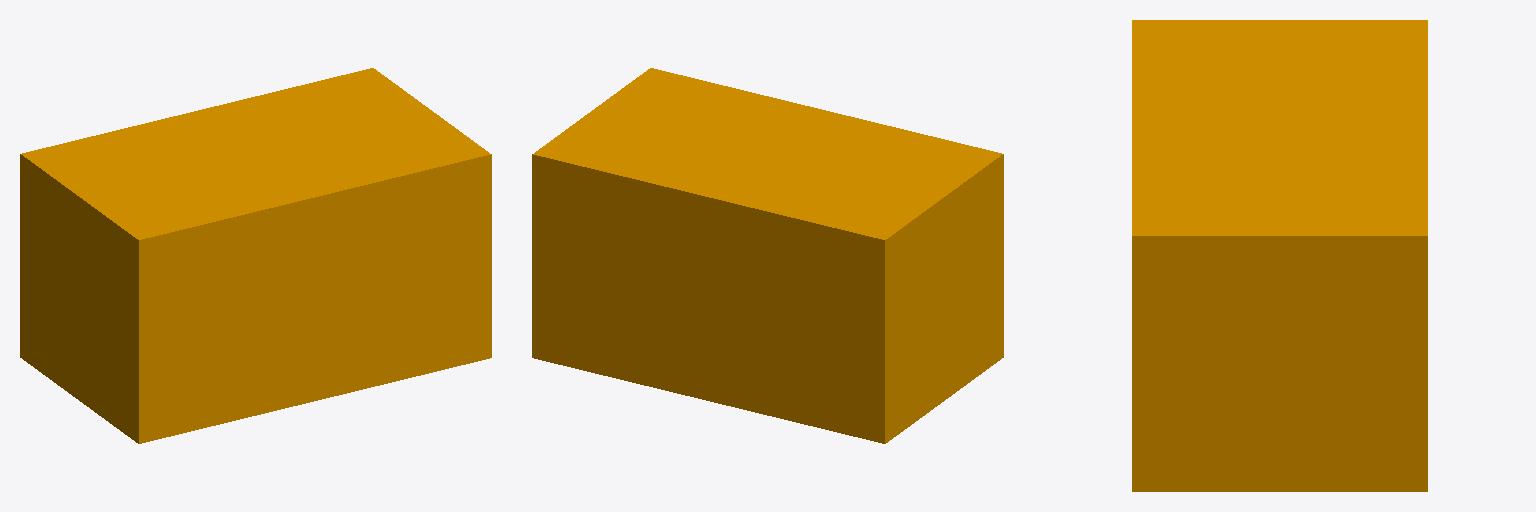
robot.urdf — object:
<?xml version="1.0"?>
<!-- Auto-generated by tools/gen_primitive_objects.py. kind=box dims=(0.09994, 0.058022, 0.055185) -->
<robot name="object">
  <link name="object">
    <visual>
      <origin xyz="0 0 0"/>
      <geometry>
        <box size="0.099940 0.058022 0.055185"/>
      </geometry>
    </visual>
    <collision>
      <origin xyz="0 0 0"/>
      <geometry>
        <box size="0.099940 0.058022 0.055185"/>
      </geometry>
    </collision>
    <inertial>
      <mass value="0.064000"/>
      <inertia ixx="0.00003420" ixy="0.0" ixz="0.0" iyy="0.00006951" iyz="0.0" izz="0.00007122"/>
    </inertial>
  </link>
</robot>

--- Facts derived from the render (not from the file) ---
Views: 3 orthographic renders of the robot side by side, from view 1: azimuth 30°, elevation 25°; view 2: azimuth 150°, elevation 25°; view 3: azimuth 270°, elevation 25°.
Model object with 1 links and 0 joints (none), rooted at object, posed every joint at zero.
Visible links, largest first — view 1: object; view 2: object; view 3: object.
Boxes of the visible links, x1,y1,x2,y2 form: object: (20, 68, 491, 443); object: (532, 68, 1003, 443); object: (1132, 20, 1427, 491).
Bounding box of the posed robot: 0.0999 × 0.058 × 0.0552 m (x, y, z).
Geometry: primitives only (box / cylinder / sphere), no mesh files.
